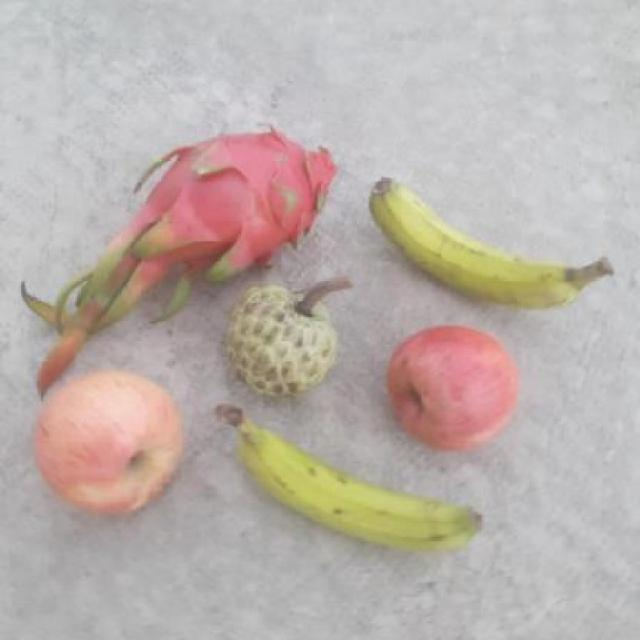apple: (31, 368, 192, 522), (385, 322, 523, 450)
banana: (220, 402, 483, 562), (367, 174, 616, 318)
dragon fruit: (121, 117, 354, 281)
sugar apple: (218, 280, 347, 400)
